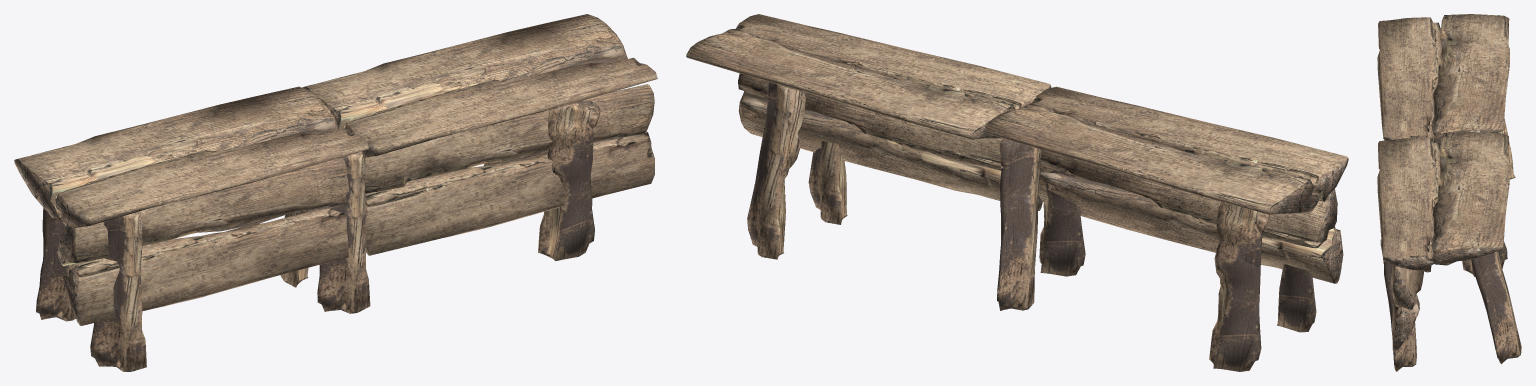
File: table3_lod0.FBX
The picture shows the model from 3 angles, left to right: view 1: azimuth 30°, elevation 25°; view 2: azimuth 150°, elevation 25°; view 3: azimuth 270°, elevation 25°; orthographic projection. The views are drawn at different scales.
Visible parts, largest first — view 1: table3_lod0; view 2: table3_lod0; view 3: table3_lod0.
Boxes of the visible parts, <box> form: table3_lod0: <box>14,14,657,371</box>; table3_lod0: <box>686,14,1348,371</box>; table3_lod0: <box>1377,14,1521,371</box>.
Size of the model in its own units: 387 by 117 by 98.27.
